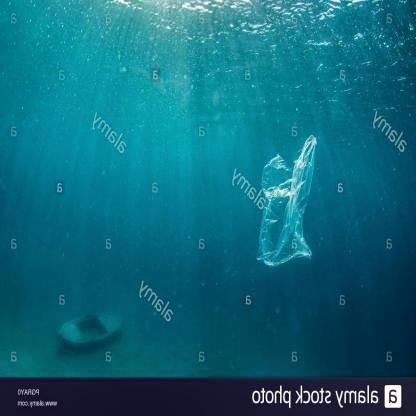pbag: (255, 135, 317, 268)
